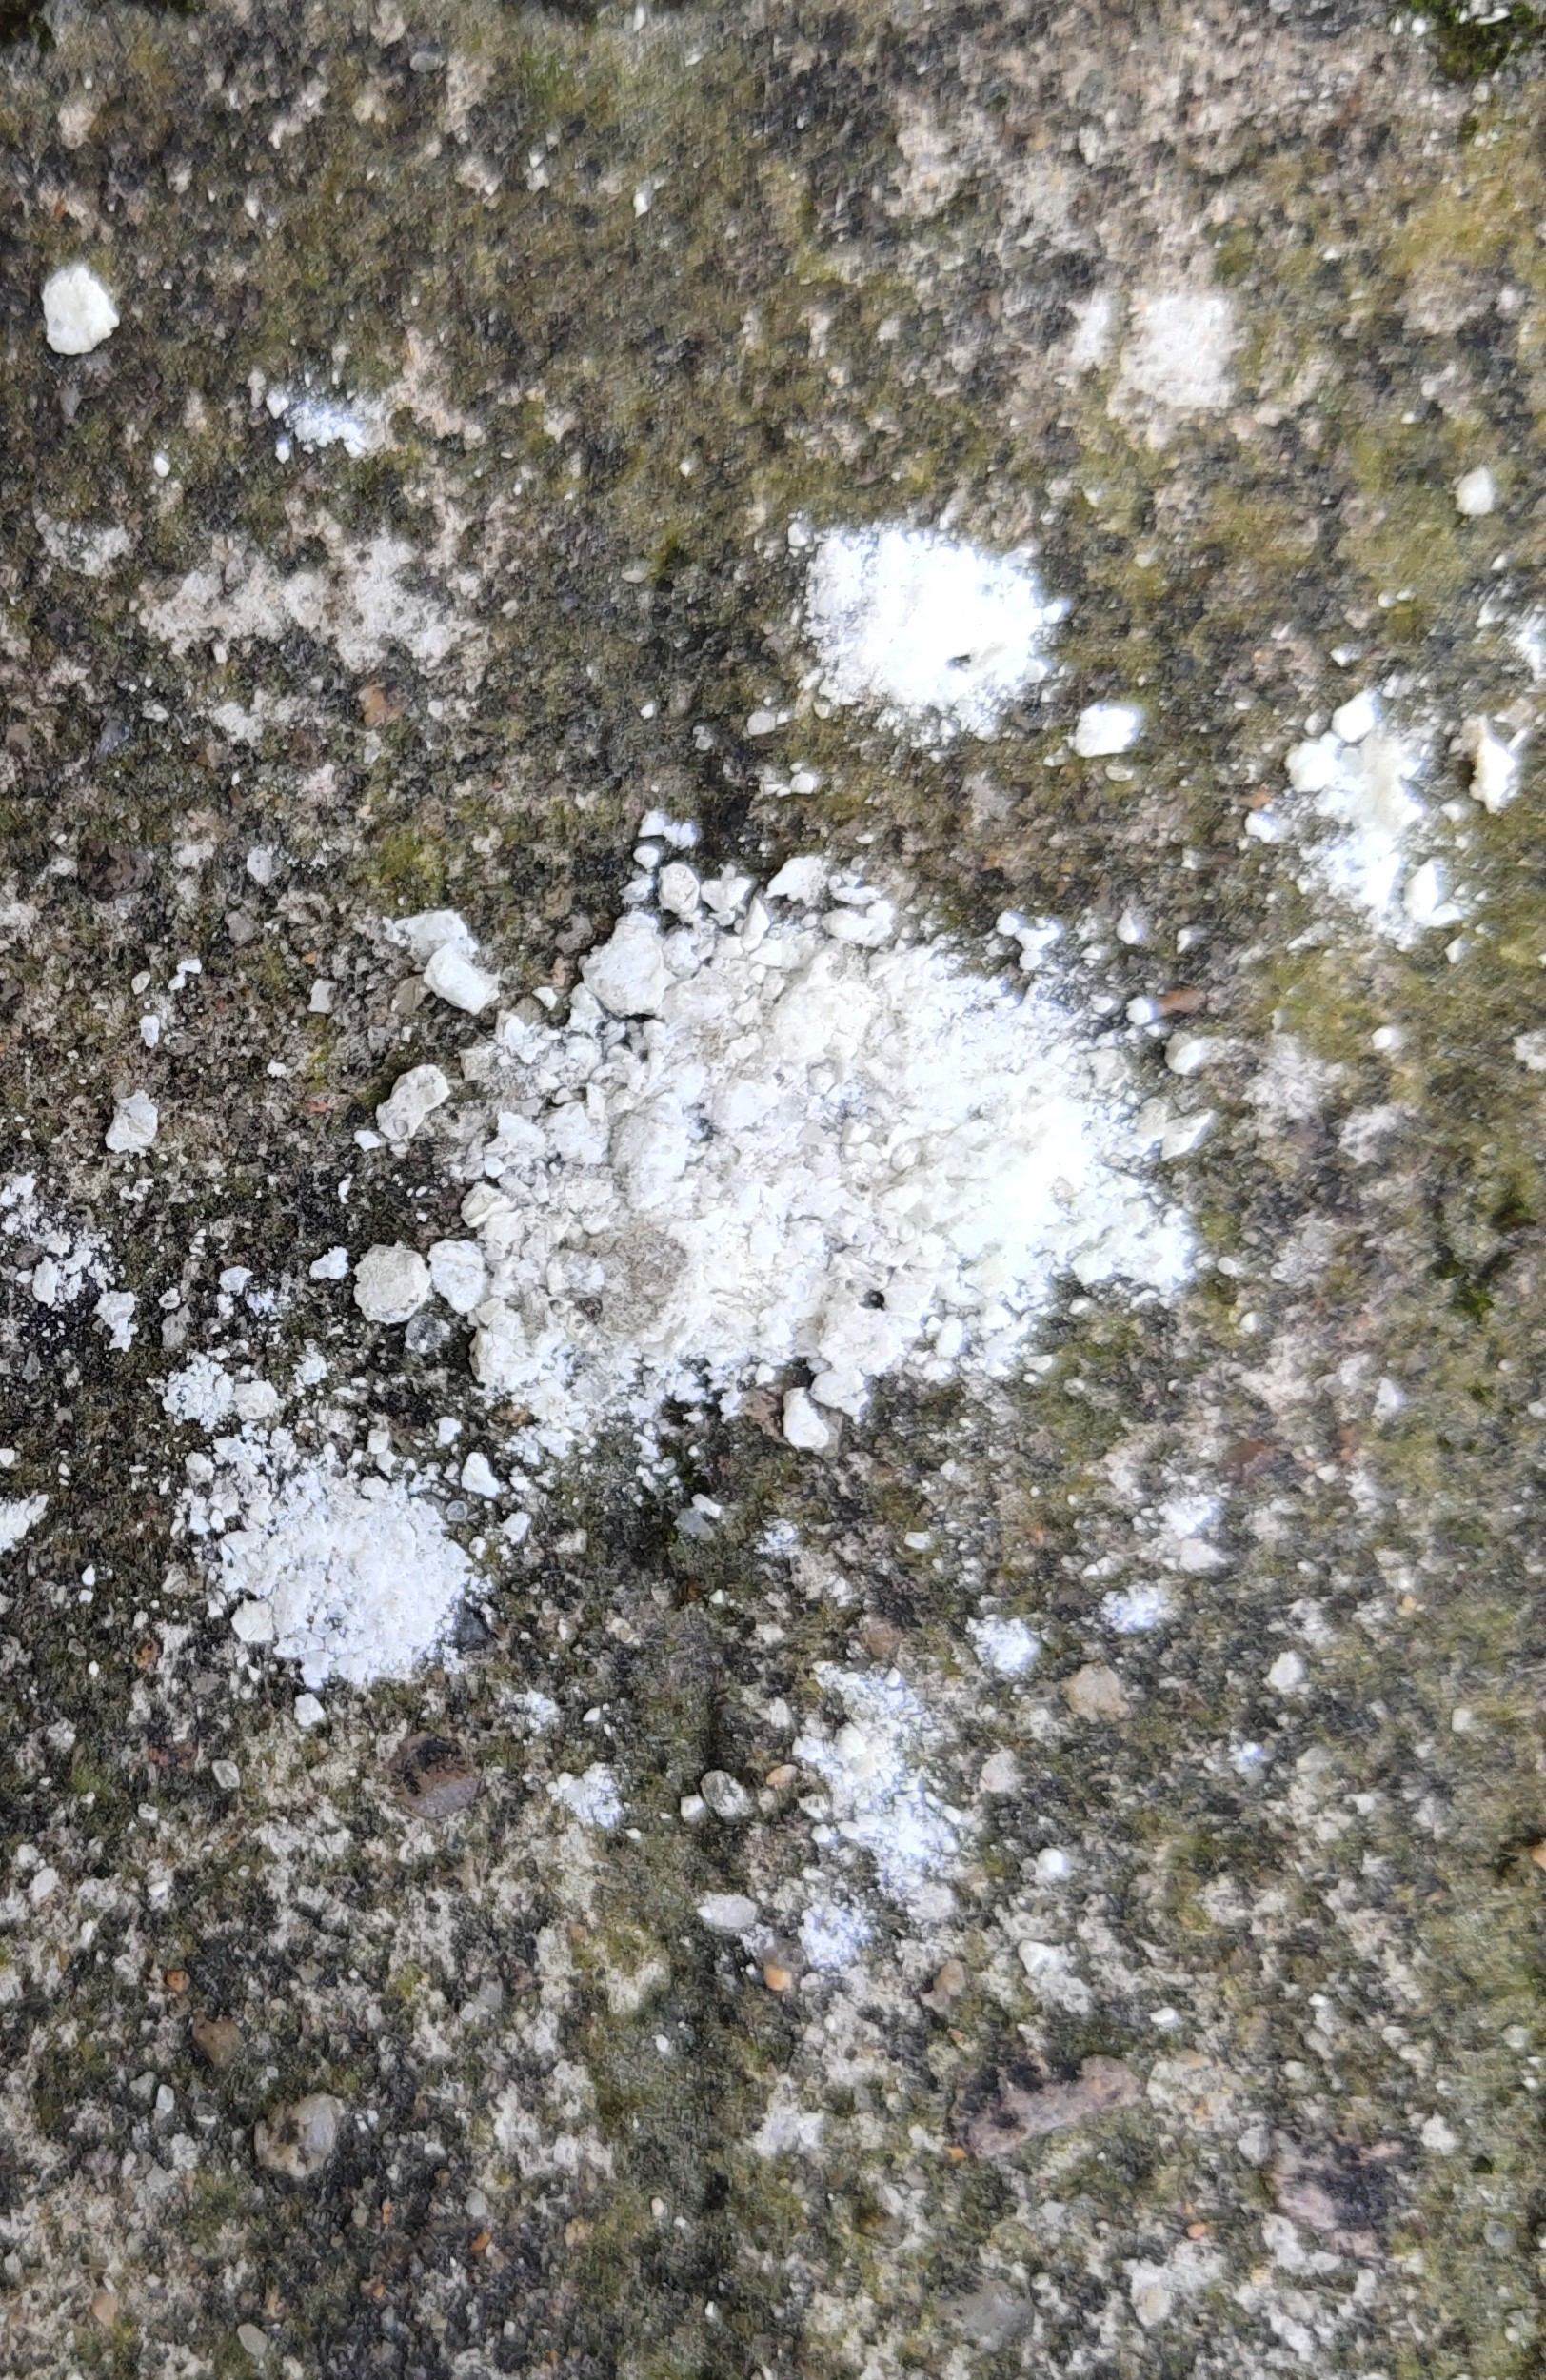ash pile: (276, 808, 1218, 1450), (161, 1360, 474, 1733), (1241, 673, 1527, 959), (791, 508, 1071, 748), (795, 1662, 960, 1978), (1081, 281, 1237, 406), (38, 255, 116, 356), (970, 1620, 1039, 1674), (1104, 1586, 1166, 1632)
